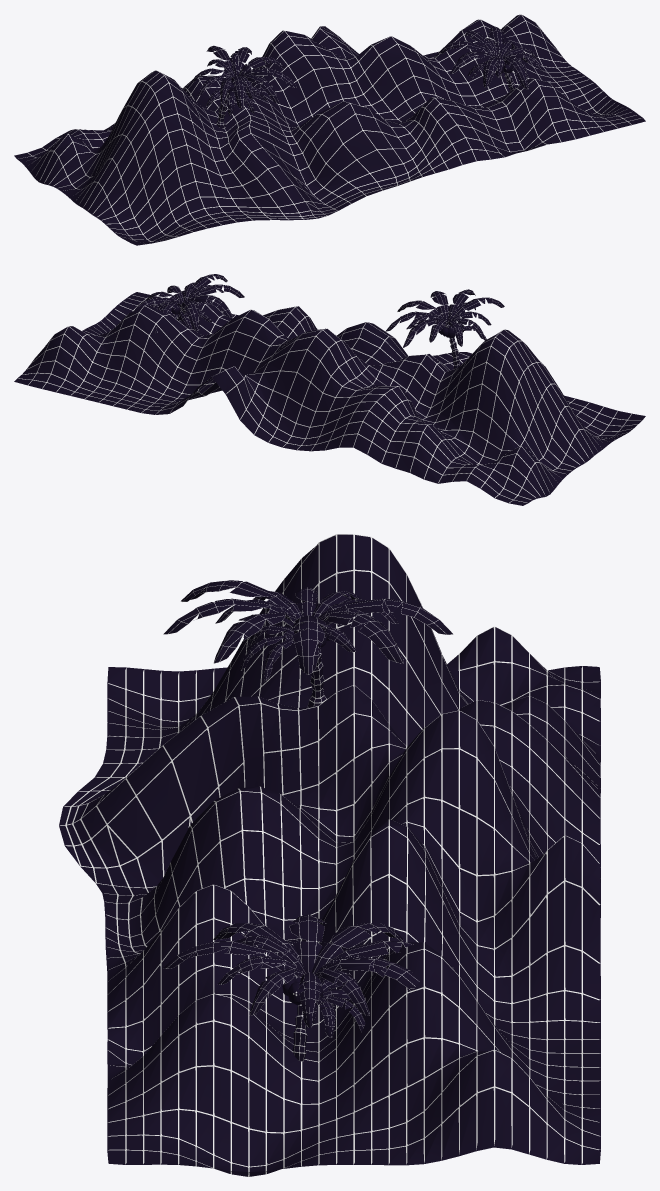
File: Background.fbx
3 renders of one model, top to bottom at view 1: azimuth 30°, elevation 25°; view 2: azimuth 150°, elevation 25°; view 3: azimuth 270°, elevation 25°, orthographic. The views are drawn at different scales.
Visible parts, largest first — view 1: Plane001.001, Plane007, Plane022, Plane023, Plane020, Plane021; view 2: Plane001.001, Plane004, Plane005, Plane020; view 3: Plane001.001, Plane024, Plane004, Plane023, Plane022, Plane005, Plane025, Plane021, Plane007, Plane002, Plane020, Plane012.
Boxes of the visible parts, box(x1,y1,x2,y2) form: Plane001.001: box(14, 14, 645, 245); Plane007: box(503, 57, 528, 89); Plane022: box(242, 67, 297, 87); Plane023: box(238, 57, 285, 76); Plane020: box(231, 76, 246, 109); Plane021: box(243, 74, 279, 104); Plane001.001: box(14, 290, 645, 505); Plane004: box(180, 300, 199, 331); Plane005: box(186, 295, 232, 317); Plane020: box(453, 297, 504, 321); Plane001.001: box(59, 534, 600, 1176); Plane024: box(320, 612, 403, 663); Plane004: box(312, 923, 402, 973); Plane023: box(291, 615, 327, 674); Plane022: box(213, 612, 305, 663); Plane005: box(289, 914, 326, 972); Plane025: box(321, 598, 453, 634); Plane021: box(163, 598, 295, 634); Plane007: box(163, 940, 297, 977); Plane002: box(318, 958, 419, 990); Plane020: box(181, 580, 295, 615); Plane012: box(315, 968, 369, 1015).
Size of the model in its own units: 2452 by 567 by 1125.
